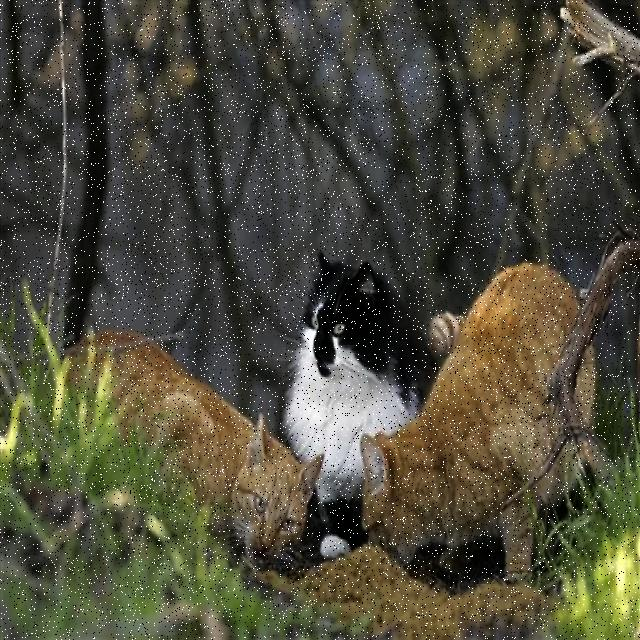cat: (361, 263, 579, 578), (282, 252, 436, 557), (112, 344, 322, 559)
